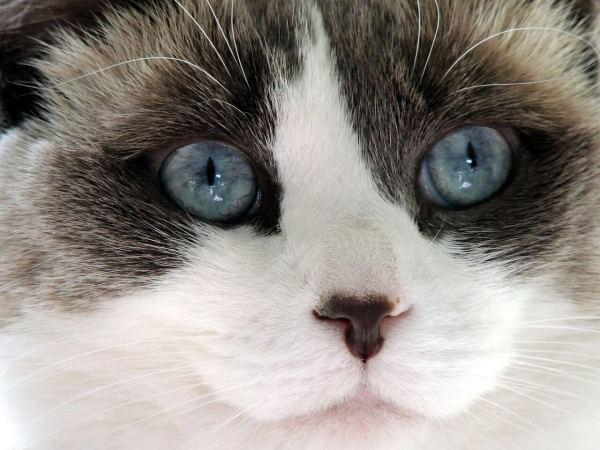ragdoll: (36, 1, 600, 450)
